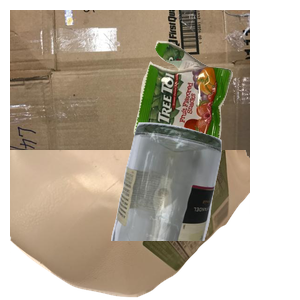cardboard: (10, 10, 250, 190)
glass: (109, 120, 300, 300)
plastic: (10, 150, 250, 300)
trash: (131, 38, 300, 182)
